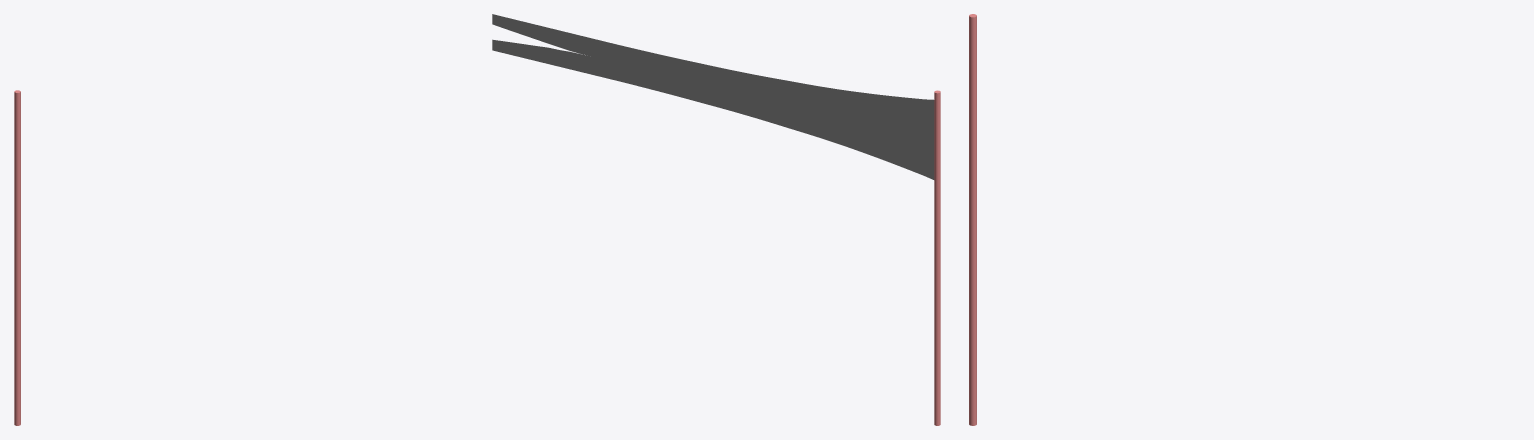
Rendered from CHN_FanFlags_01_SM.gltf.
3 renders of one model, left to right at view 1: azimuth 30°, elevation 25°; view 2: azimuth 150°, elevation 25°; view 3: azimuth 330°, elevation 25°, orthographic. The views are drawn at different scales.
Parts seen in each view (by area): view 1: CHN_FanFlags_01_SM; view 2: CHN_FanFlags_01_SM; view 3: CHN_FanFlags_01_SM.
Boxes of the visible parts, x1,y1,x2,y2 form: CHN_FanFlags_01_SM: [14, 90, 20, 425]; CHN_FanFlags_01_SM: [492, 14, 940, 425]; CHN_FanFlags_01_SM: [969, 14, 976, 425].
Size of the model in its own units: 2.66 by 1.88 by 0.0335.
